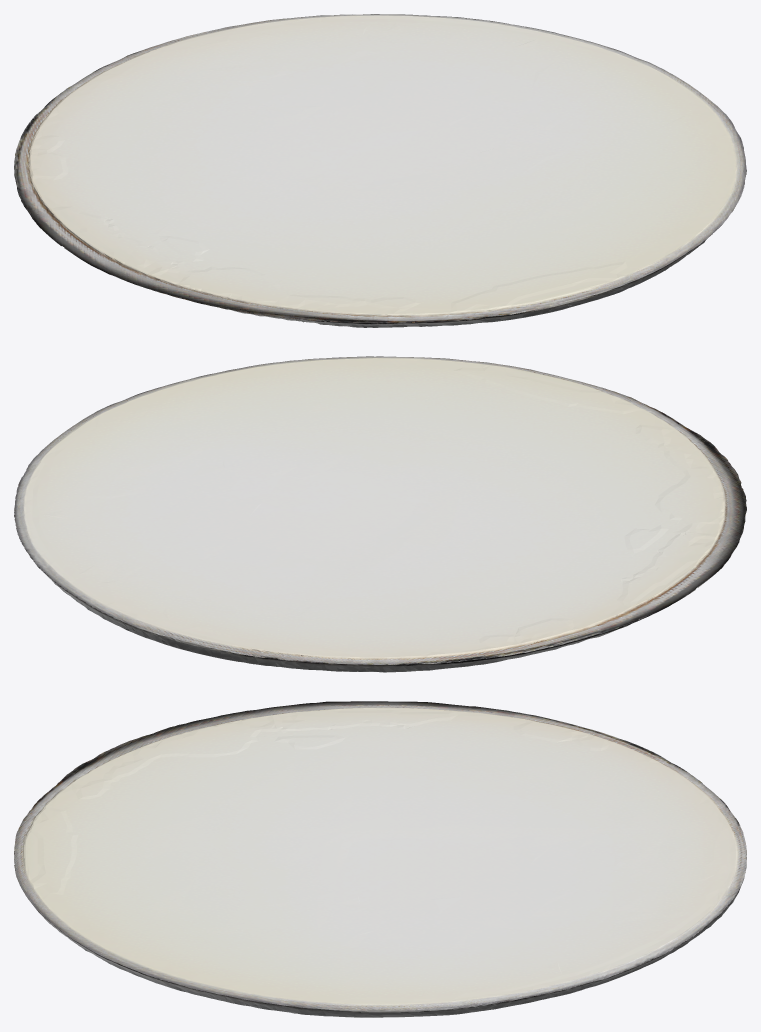
3 renders of one model, top to bottom at view 1: azimuth 30°, elevation 25°; view 2: azimuth 150°, elevation 25°; view 3: azimuth 270°, elevation 25°, orthographic.
Visible parts, largest first — view 1: world; view 2: world; view 3: world.
Part boxes in pixels (x1,y1,x2,y2): world: [14, 14, 746, 327]; world: [14, 356, 746, 672]; world: [14, 701, 746, 1017].
Bounding box in the file's own units: 1 × 0.0214 × 1.
Materials: 1 (1 with a texture image).
